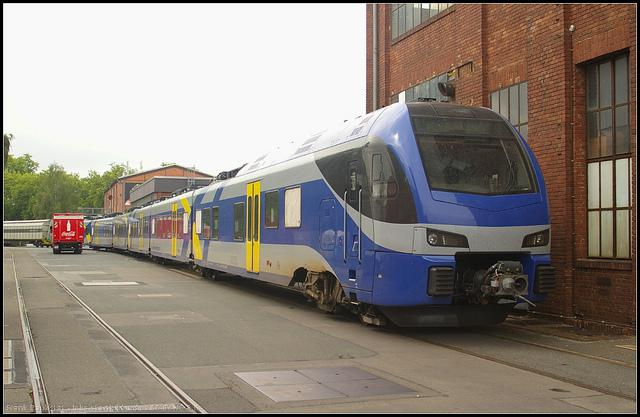Train: (88, 105, 552, 332)
